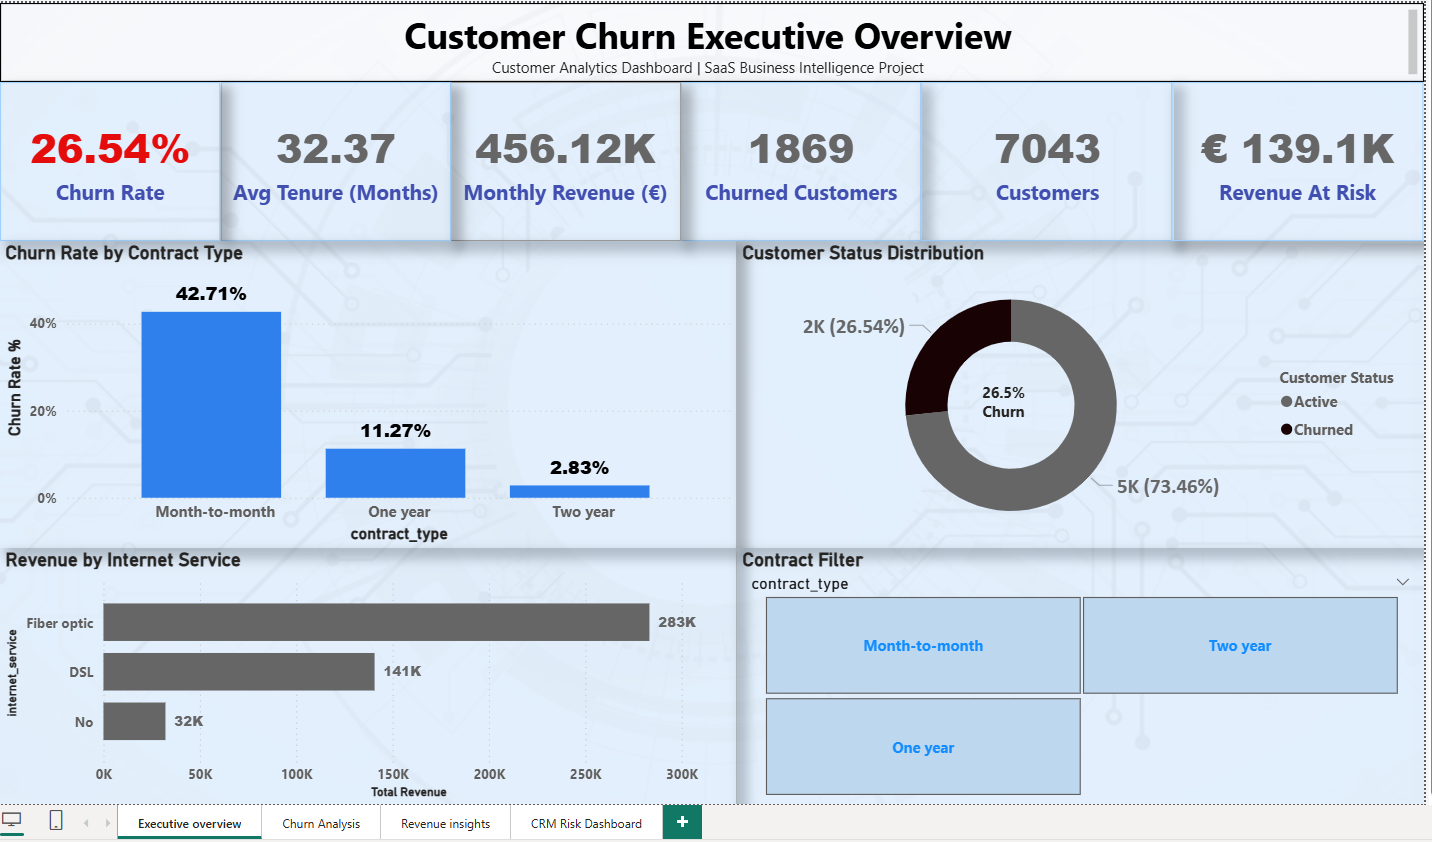

The page's visual inventory and layout, read from the dashboard file:
{"tool":"powerbi","page":{"name":"Executive overview","canvas":[1280,720],"ordinal":0},"visuals":[{"type":"shape","box":[0,0,1269.7,719.8],"z":0},{"type":"card","fields":{"Values":["fact_customer_metrics.Total Churned Customers"]},"box":[612.4,70.9,215.9,142.9],"z":1000},{"type":"card","fields":{"Values":["fact_customer_metrics.Total Customers"]},"box":[828.3,70.9,227.4,142.9],"z":2000},{"type":"card","fields":{"Values":["fact_customer_metrics.Total Revenue"]},"box":[404.8,70.9,207.6,142.9],"z":3000},{"type":"card","fields":{"Values":["fact_customer_metrics.Average Tenure"]},"box":[198.2,70.9,206.6,142.9],"z":4000},{"type":"donutChart","title":"Customer Status Distribution","fields":{"Category":["fact_customer_metrics.Customer Status"],"Y":["fact_customer_metrics.Total Customers"]},"box":[662.4,213.9,617.6,276.4],"z":5000},{"type":"card","fields":{"Values":["fact_customer_metrics.Churn Rate %"]},"box":[0,70.9,198.2,142.9],"z":6000},{"type":"clusteredColumnChart","title":"Churn Rate by Contract Type","fields":{"Category":["dim_contract.contract_type"],"Y":["fact_customer_metrics.Churn Rate %"]},"box":[0,214,662,276],"z":7000},{"type":"textbox","box":[0,0,1280,71.1],"z":8000},{"type":"clusteredBarChart","title":"Revenue by Internet Service","fields":{"Category":["dim_service.internet_service"],"Y":["fact_customer_metrics.Total Revenue"]},"box":[0,490.3,662.4,230.5],"z":9000},{"type":"slicer","title":"Contract Filter","fields":{"Values":["dim_contract.contract_type"]},"box":[662.4,490.3,617.6,229.5],"z":10000},{"type":"textbox","box":[866.2,335.8,71.1,49.4],"z":11000},{"type":"card","fields":{"Values":["fact_customer_metrics.Revenue At Risk"]},"box":[1052.6,70.9,227.4,142.9],"z":12000}]}

Visuals, with their boxes on the page's 1280x720 design canvas (x1, y1, x2, y2). These are canvas units, not pixel positions in the 1432x842 screenshot, which may show the page scaled, cropped or inside an application window:
shape: <bbox>0, 0, 1270, 720</bbox>
card - fact_customer_metrics.Total Churned Customers: <bbox>612, 71, 828, 214</bbox>
card - fact_customer_metrics.Total Customers: <bbox>828, 71, 1056, 214</bbox>
card - fact_customer_metrics.Total Revenue: <bbox>405, 71, 612, 214</bbox>
card - fact_customer_metrics.Average Tenure: <bbox>198, 71, 405, 214</bbox>
"Customer Status Distribution" donutChart: <bbox>662, 214, 1280, 490</bbox>
card - fact_customer_metrics.Churn Rate %: <bbox>0, 71, 198, 214</bbox>
"Churn Rate by Contract Type" clusteredColumnChart: <bbox>0, 214, 662, 490</bbox>
textbox: <bbox>0, 0, 1280, 71</bbox>
"Revenue by Internet Service" clusteredBarChart: <bbox>0, 490, 662, 721</bbox>
"Contract Filter" slicer: <bbox>662, 490, 1280, 720</bbox>
textbox: <bbox>866, 336, 937, 385</bbox>
card - fact_customer_metrics.Revenue At Risk: <bbox>1053, 71, 1280, 214</bbox>
